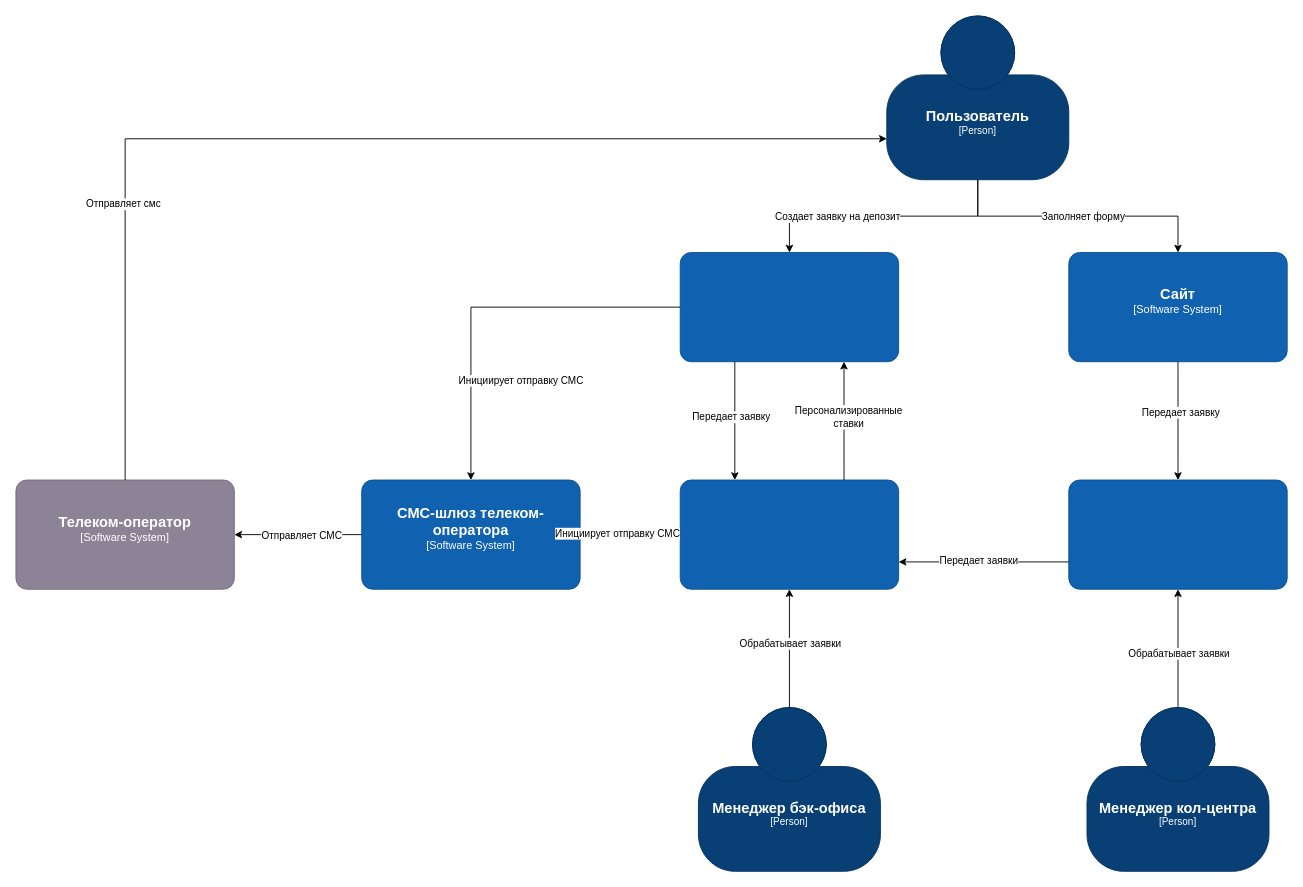
Image size: 1303x887. Some labels were removed from this diagram. The box of each missing label's shape, as (x1, y1, x2, y2) in pixels:
АБС [Software System]: (679, 479, 899, 589)
Интернет-банк [Software System]: (679, 252, 899, 362)
Кол-центр [Software System]: (1068, 479, 1287, 589)
